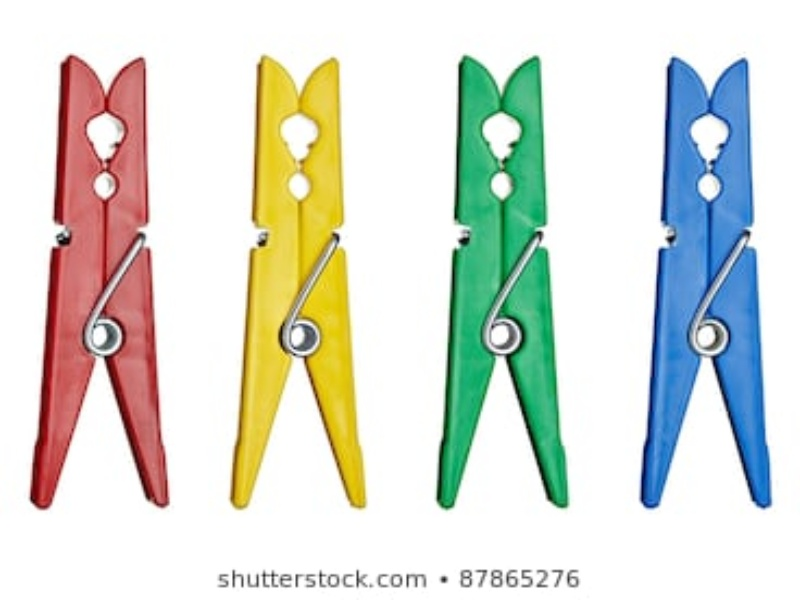plastic-peg: (29, 52, 176, 510), (427, 53, 574, 511), (227, 51, 374, 509), (630, 54, 773, 510)
